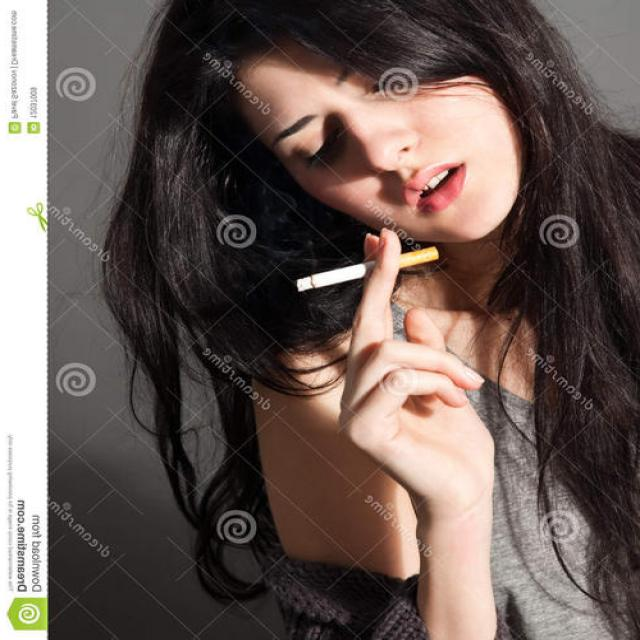smoking: (292, 246, 438, 295)
